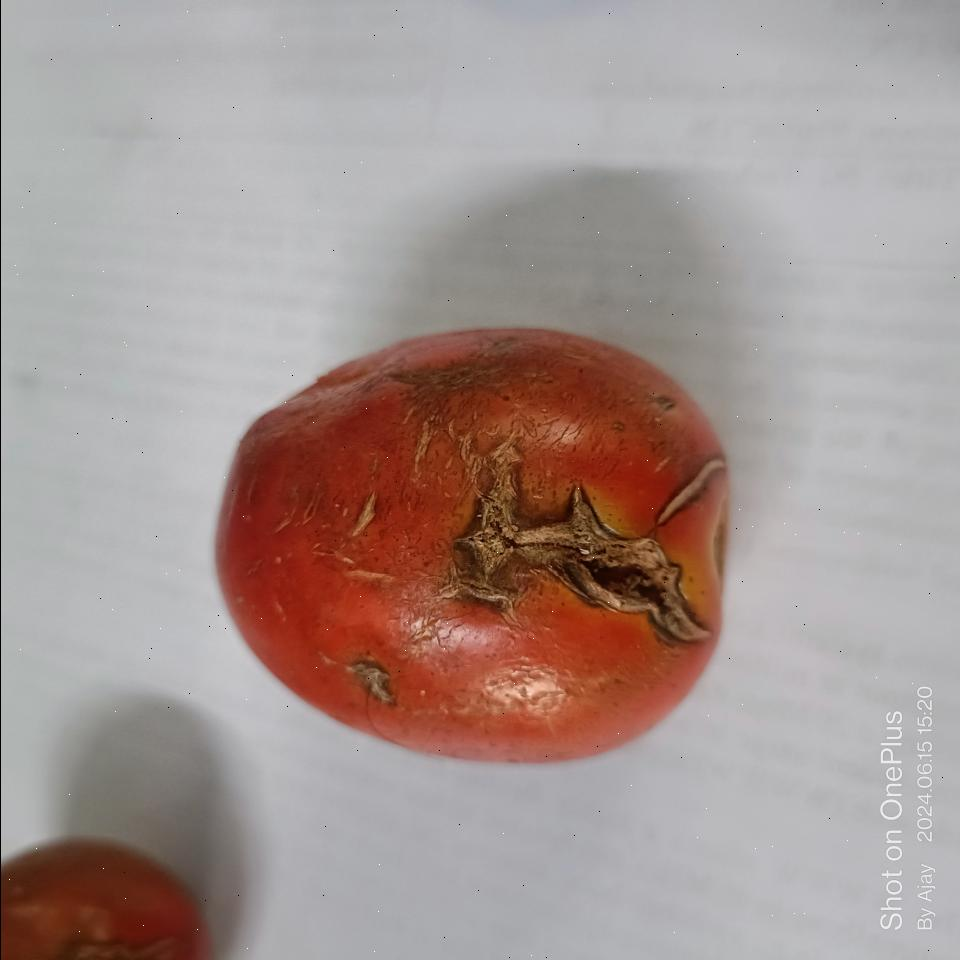Cracking: (422, 395, 722, 680)
